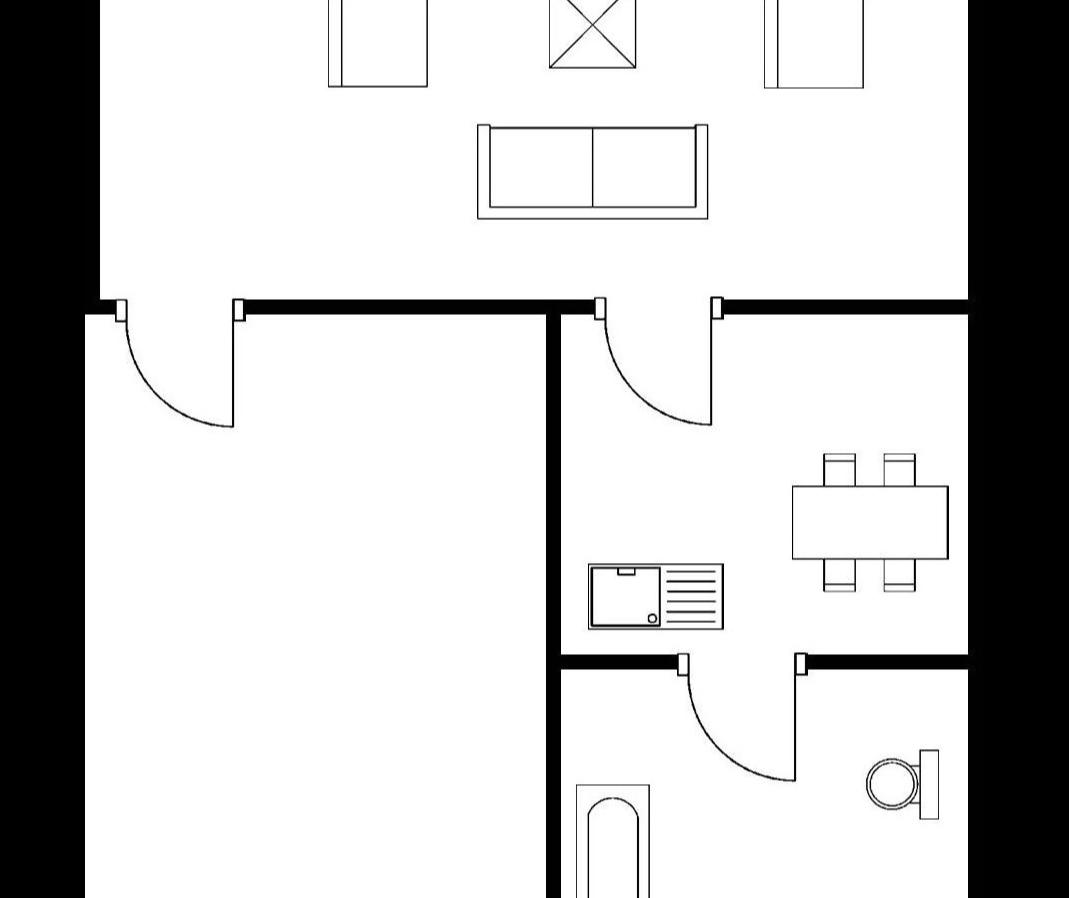dining_table: (788, 447, 954, 596)
sink: (580, 558, 726, 638)
sofa: (472, 118, 714, 222)
toilet: (862, 744, 944, 824)
tub: (568, 774, 655, 898)
